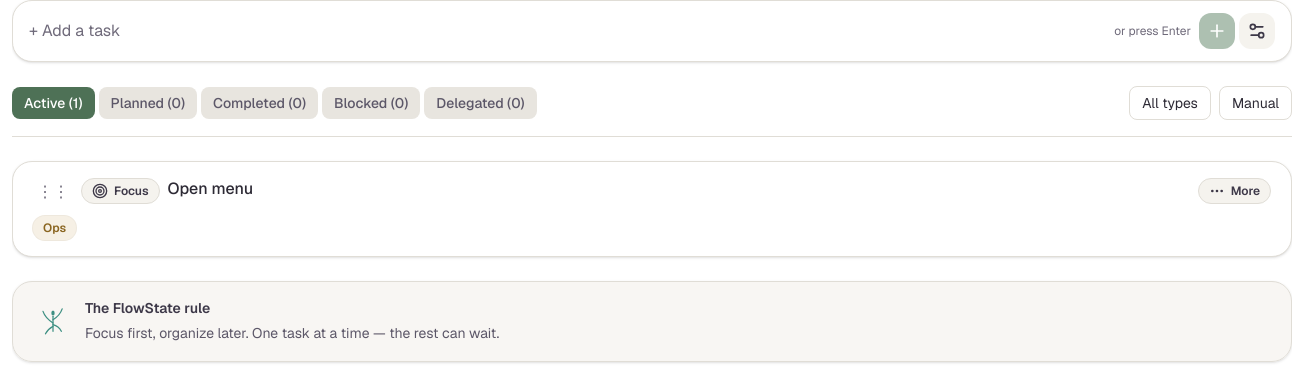
it: TaskList › does not clip the more-actions menu inside the task card
Click the button with test id "task-more-actions". click: [1234, 191]
box: [1198,178,1271,204]
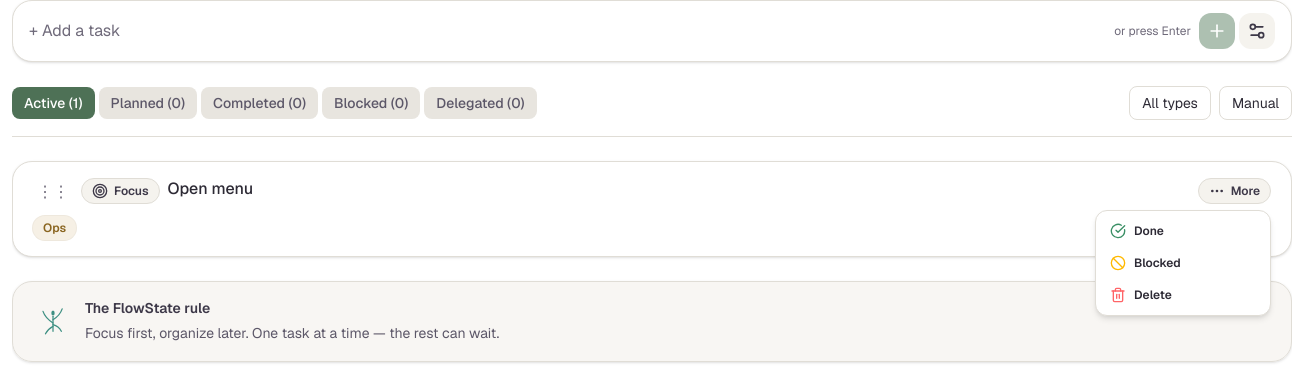
Check: the element with test id "task-more-menu" is shown, box [1095,210,1271,316]
Check: the button with test id "task-complete-button" is shown, box [1100,215,1266,247]
